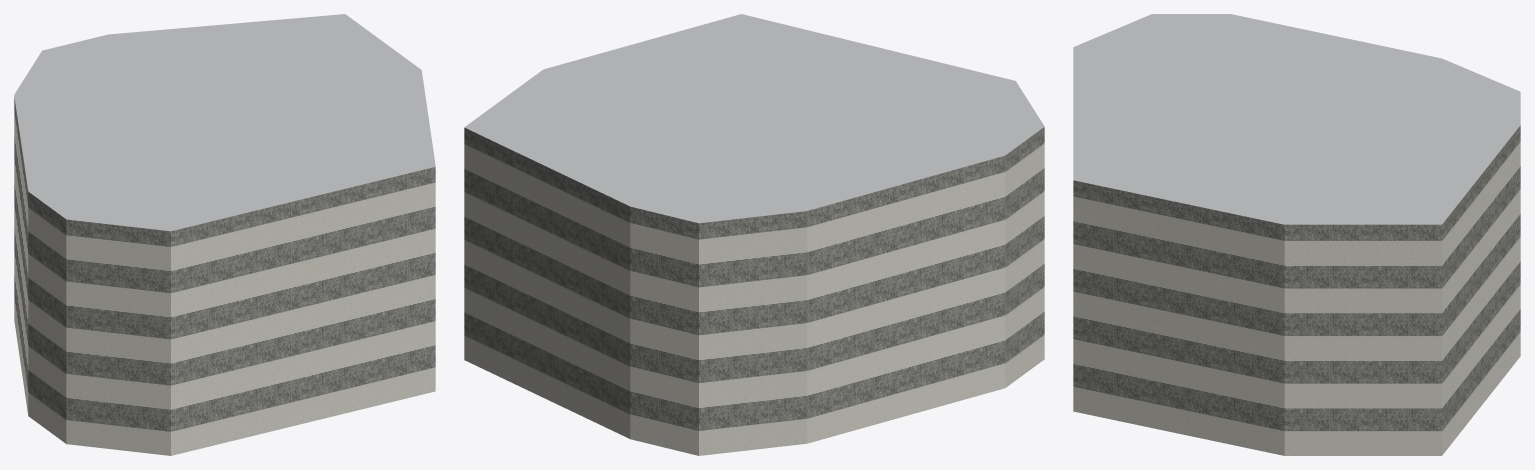
File: bldg_far_03.gltf
3 renders of one model, left to right at view 1: azimuth 30°, elevation 25°; view 2: azimuth 150°, elevation 25°; view 3: azimuth 270°, elevation 25°, orthographic. The views are drawn at different scales.
Visible parts, largest first — view 1: bldg_far_03.facade, bldg_far_03.roof; view 2: bldg_far_03.facade, bldg_far_03.roof; view 3: bldg_far_03.facade, bldg_far_03.roof.
Boxes of the visible parts, bbox=[...] form: bldg_far_03.facade: bbox=[14, 97, 435, 455]; bldg_far_03.roof: bbox=[14, 14, 435, 231]; bldg_far_03.facade: bbox=[464, 127, 1044, 455]; bldg_far_03.roof: bbox=[464, 14, 1044, 223]; bldg_far_03.facade: bbox=[1073, 125, 1520, 455]; bldg_far_03.roof: bbox=[1073, 14, 1520, 224].
Size of the model in its own units: 38.02 by 19.45 by 34.11.
2 materials, 1 textured.
